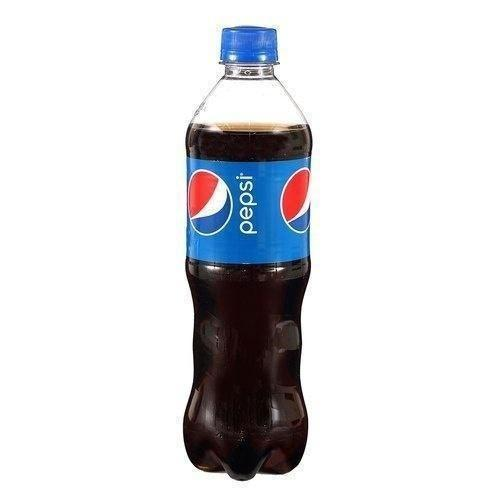bottle-plastic: (181, 22, 316, 485)
